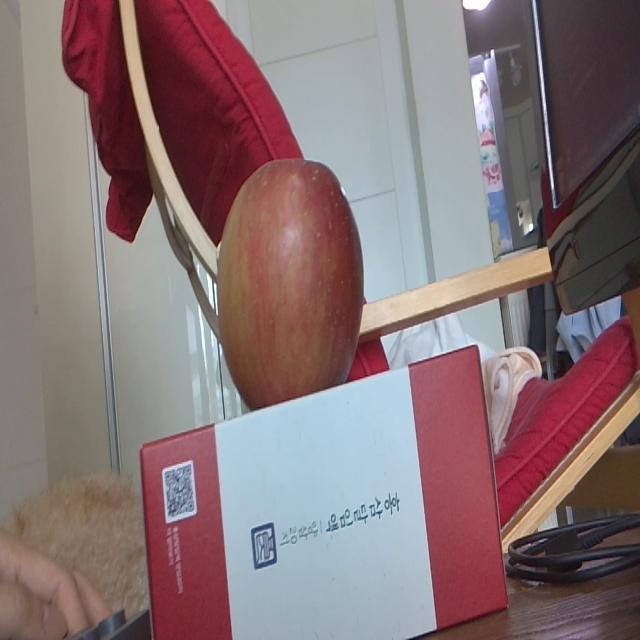apple: (219, 158, 366, 414)
